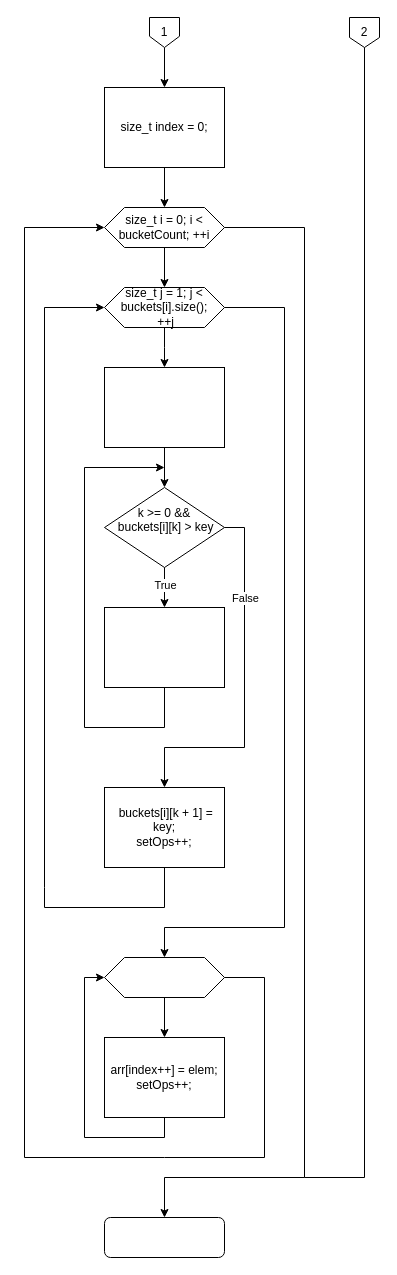
This 397x1275 diagram has some shape labels left out. Here are the shapes that lost their labels. From the top down, the box of each, then its label:
(104, 366, 224, 448): T key = buckets[i][j]; int k = j - 1;
(104, 606, 224, 688): buckets[i][k + 1] = buckets[i][k]; setOps++; k--;
(104, 956, 224, 998): const T& elem : buckets[i]
(104, 1216, 224, 1258): Кінець
